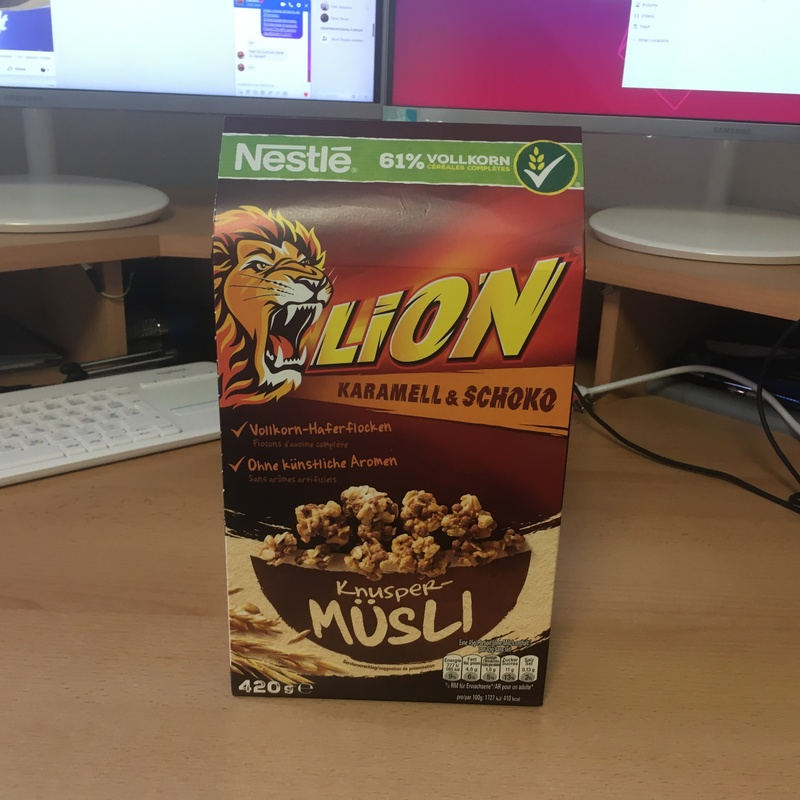cereals: (210, 115, 584, 719)
